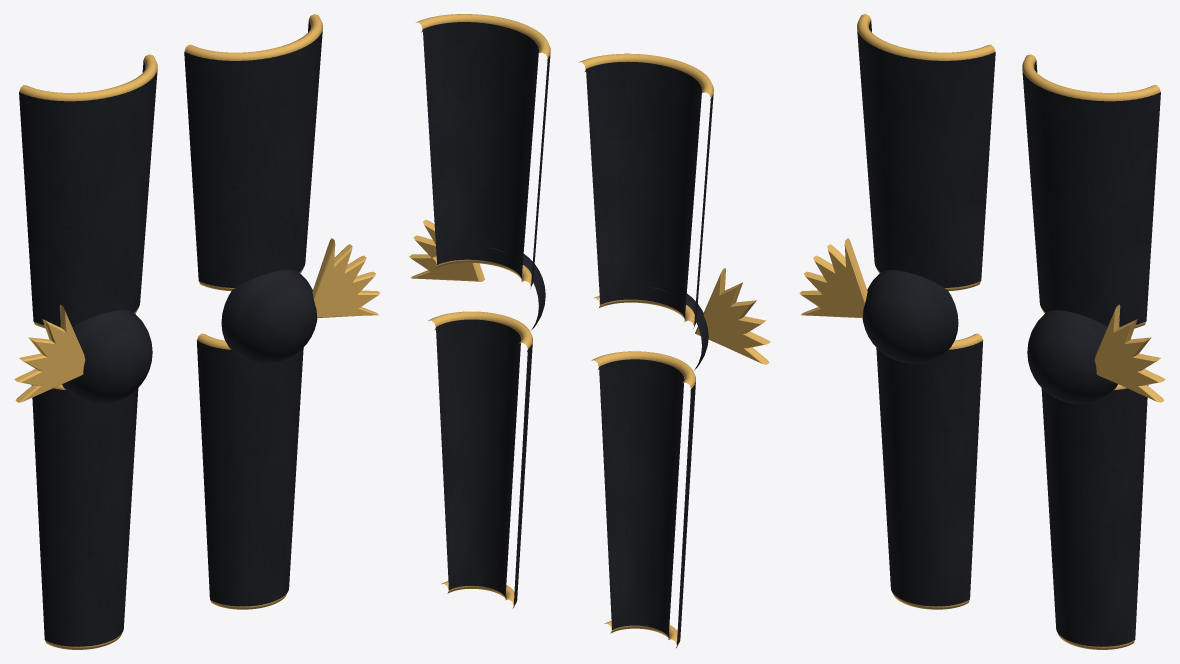
The model's file is greaves.glb.
3 views of the same model, side by side, from view 1: azimuth 30°, elevation 25°; view 2: azimuth 150°, elevation 25°; view 3: azimuth 330°, elevation 25° (orthographic).
Parts seen in each view (by area): view 1: greaves, goldTrim; view 2: greaves, goldTrim; view 3: greaves, goldTrim.
Boxes of the visible parts, x1=… form: greaves: x1=19, y1=20, x2=322, y2=646; goldTrim: x1=14, y1=14, x2=380, y2=649; greaves: x1=423, y1=22, x2=713, y2=644; goldTrim: x1=409, y1=14, x2=770, y2=647; greaves: x1=857, y1=20, x2=1160, y2=646; goldTrim: x1=799, y1=14, x2=1165, y2=649.
Size of the model in its own units: 1.06 by 1.58 by 0.2258.
2 materials, 1 textured.
